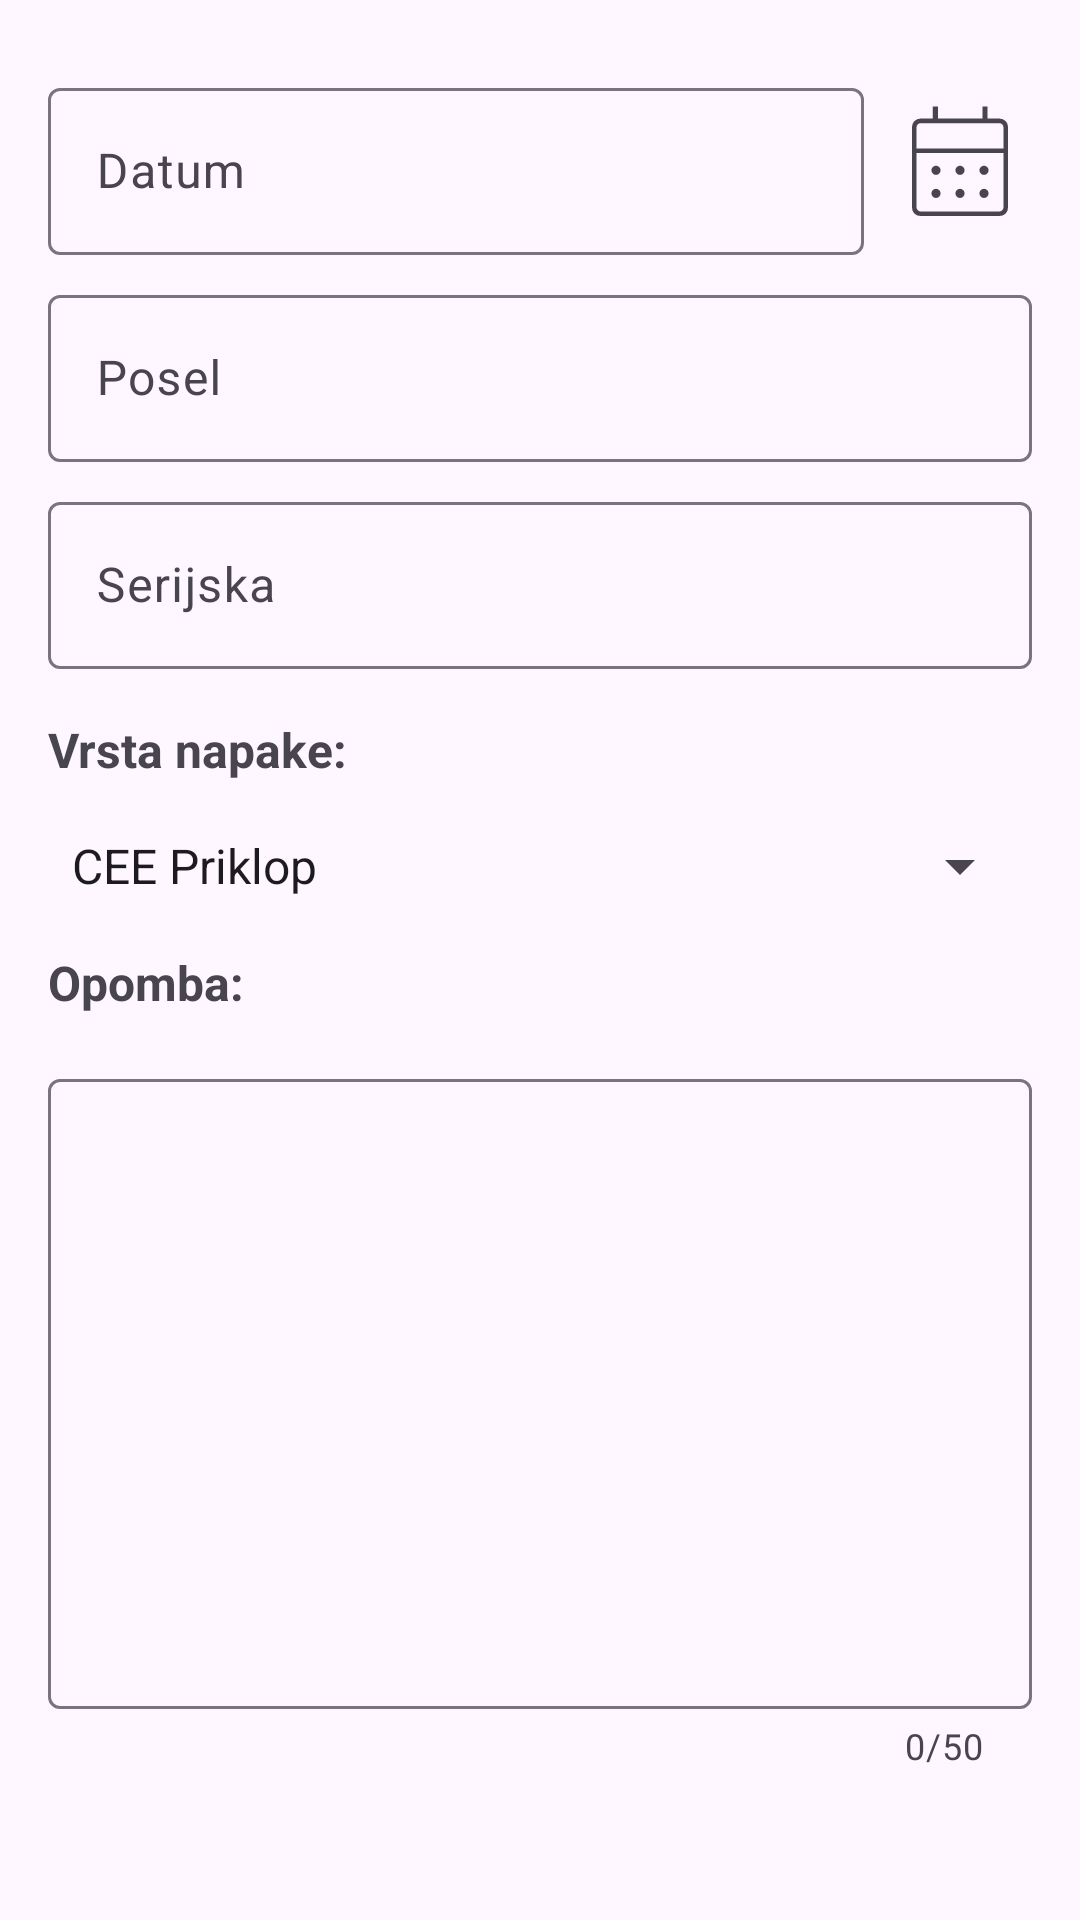

Screen size 1080px x 1920px. Icon name, then its box in pixels as box=[x1, y1, x2, y2]:
calendar selection: box=[912, 106, 1008, 216]
